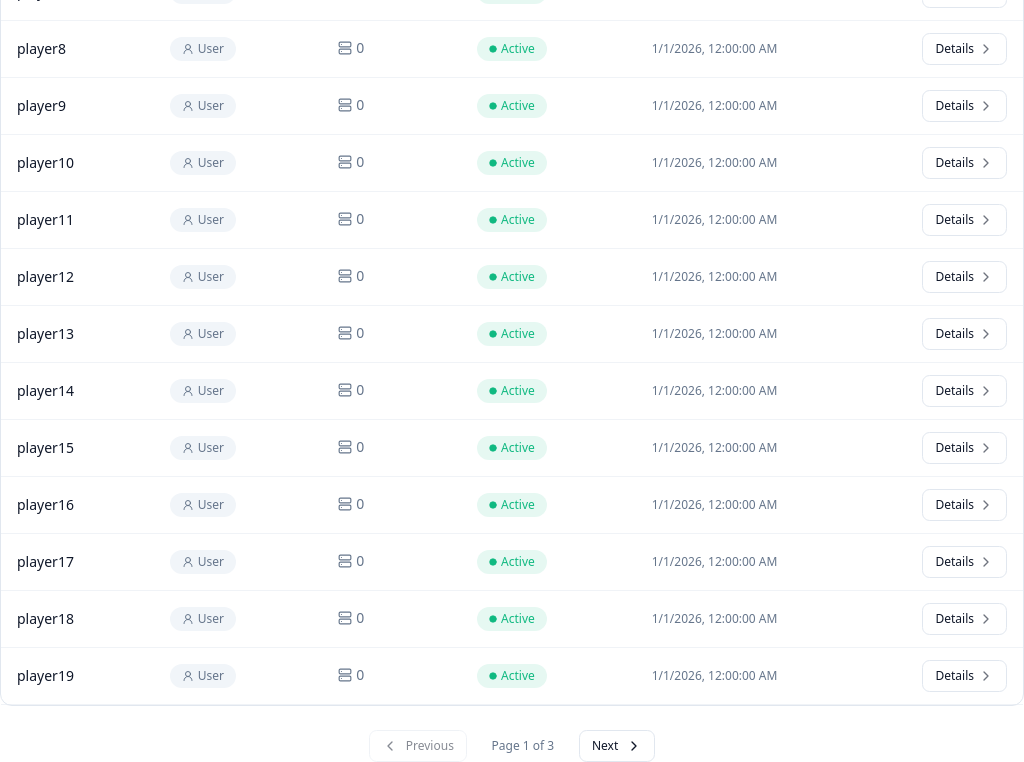
it: UsersPage search › stays on the page someone turned to while the box is untouched
This screenshot has width=1024, height=762.
(page scrolled)
Step 1. Click the button "Next" → (617, 746), box x1=579 y1=730 x2=655 y2=761
Wait 1000 ms
(page scrolled)
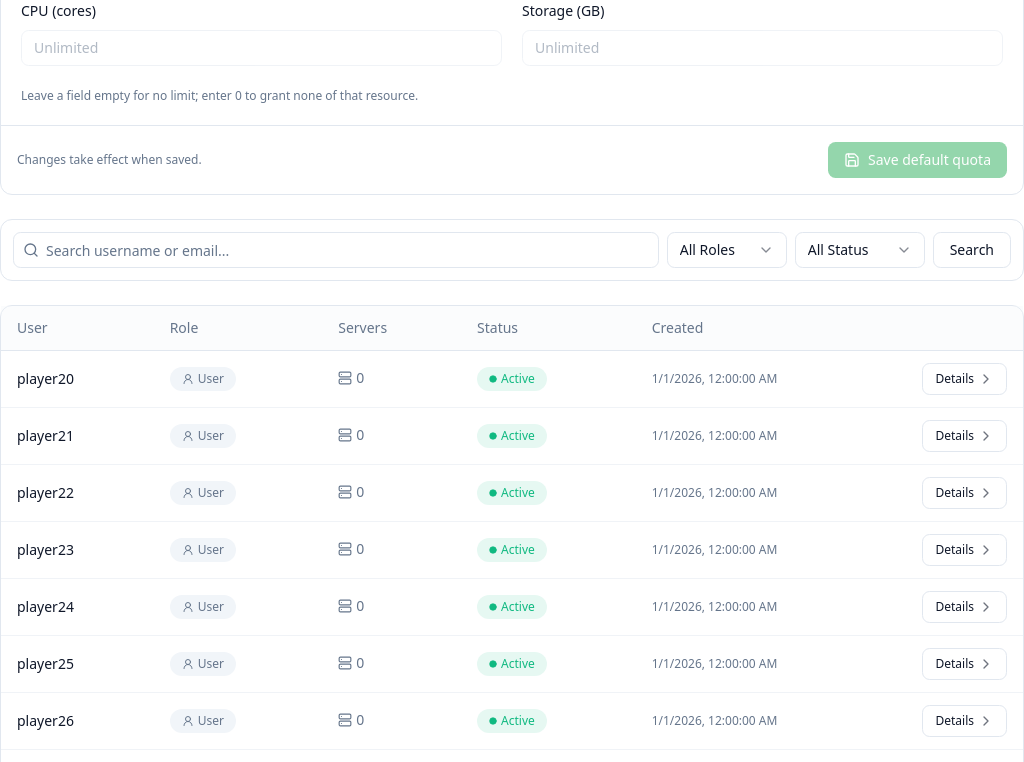
Result: the link "player20" is shown at x1=17 y1=369 x2=74 y2=388
